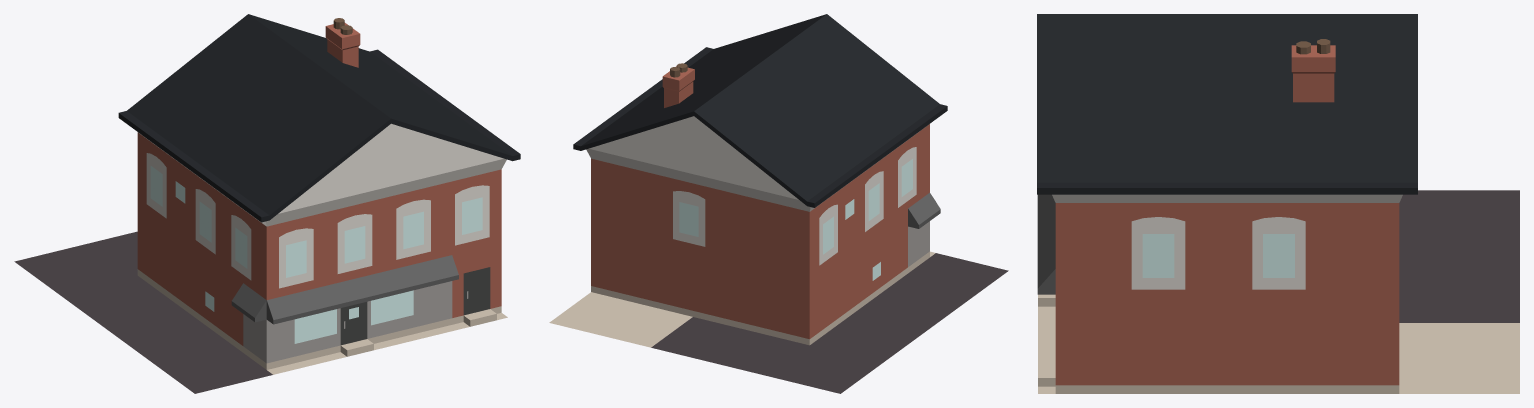
Rendered from ShopC.fbx.
3 renders of one model, left to right at view 1: azimuth 30°, elevation 25°; view 2: azimuth 150°, elevation 25°; view 3: azimuth 270°, elevation 25°, orthographic. The views are drawn at different scales.
Visible parts, largest first — view 1: ShopC; view 2: ShopC; view 3: ShopC.
Boxes of the visible parts, bbox=[...] form: ShopC: bbox=[14, 14, 520, 393]; ShopC: bbox=[549, 14, 1008, 393]; ShopC: bbox=[1037, 14, 1519, 393].
Size of the model in its own units: 208 by 143 by 200.
